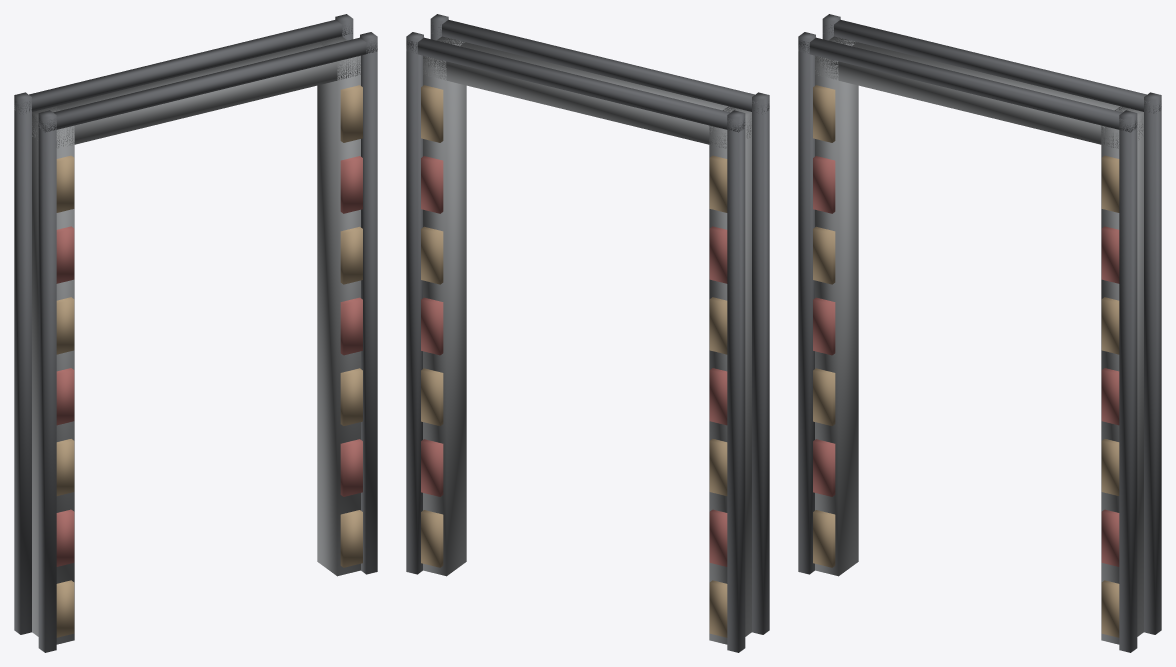
The model's file is doorway_brick_return_w122_h220_d16.glb.
The picture shows the model from 3 angles, left to right: view 1: azimuth 30°, elevation 25°; view 2: azimuth 150°, elevation 25°; view 3: azimuth 330°, elevation 25°; orthographic projection.
Visible parts, largest first — view 1: world; view 2: world; view 3: world.
Part boxes in pixels (box(x1,y1,x2,y2)): world: box(14, 14, 377, 652); world: box(406, 14, 769, 652); world: box(798, 14, 1161, 652).
Size of the model in its own units: 1.55 by 2.38 by 0.2496.
